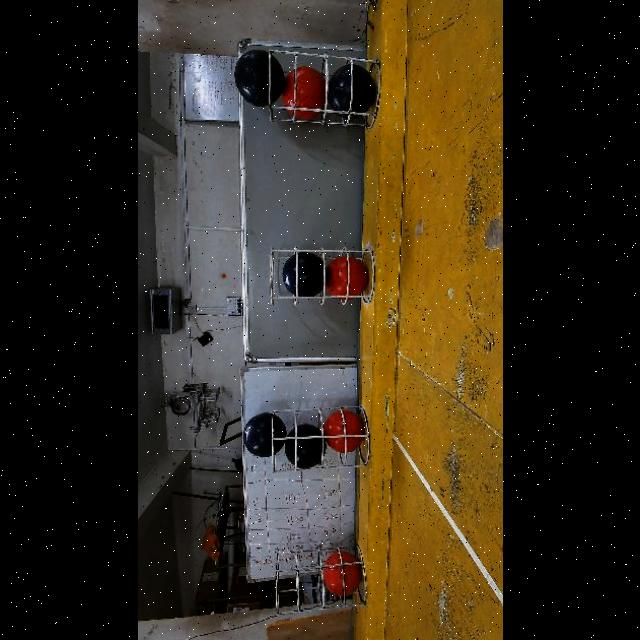P: (232, 50, 283, 107), (327, 62, 373, 116), (241, 413, 285, 457), (281, 251, 323, 296), (282, 424, 321, 470)
R: (280, 66, 326, 119), (325, 256, 367, 300), (322, 410, 364, 454), (321, 549, 359, 594)
S: (264, 51, 374, 130), (262, 406, 372, 474), (266, 246, 386, 308), (267, 552, 367, 612)
